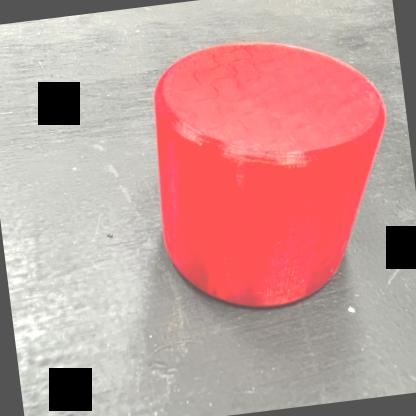red cylinder: (139, 20, 411, 322)
